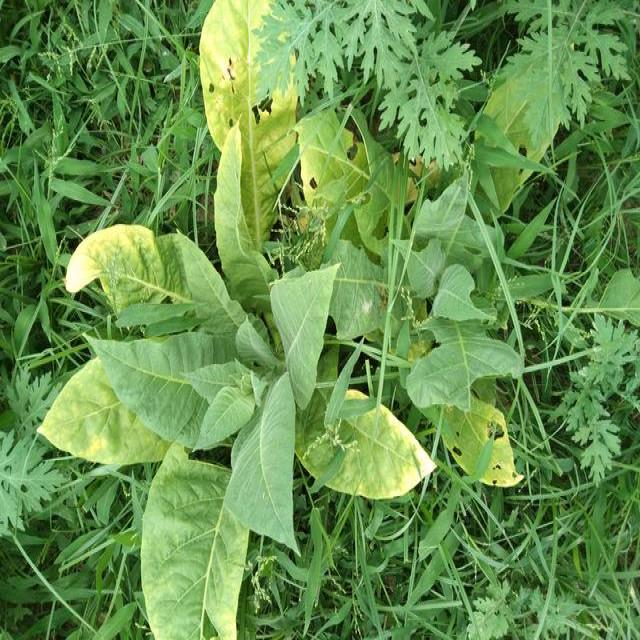crop: (42, 201, 391, 638)
